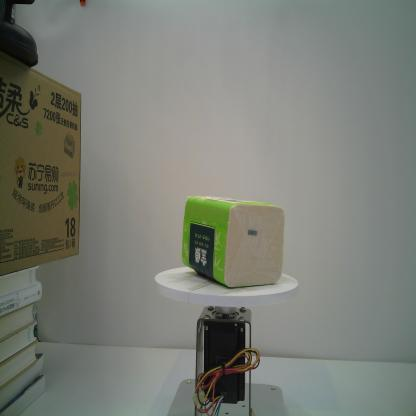Tissue: (180, 194, 286, 289)
